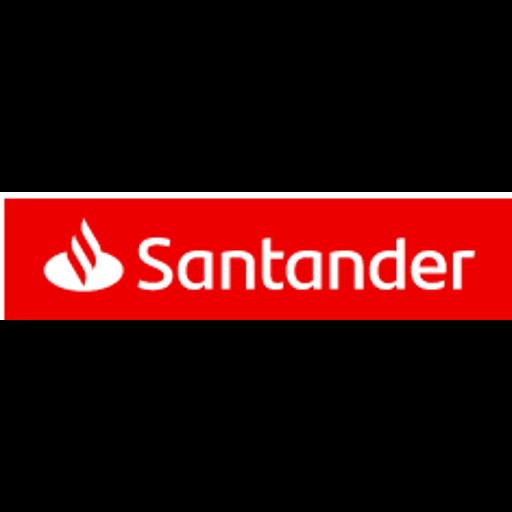Grupo Santander: (0, 192, 512, 320)
